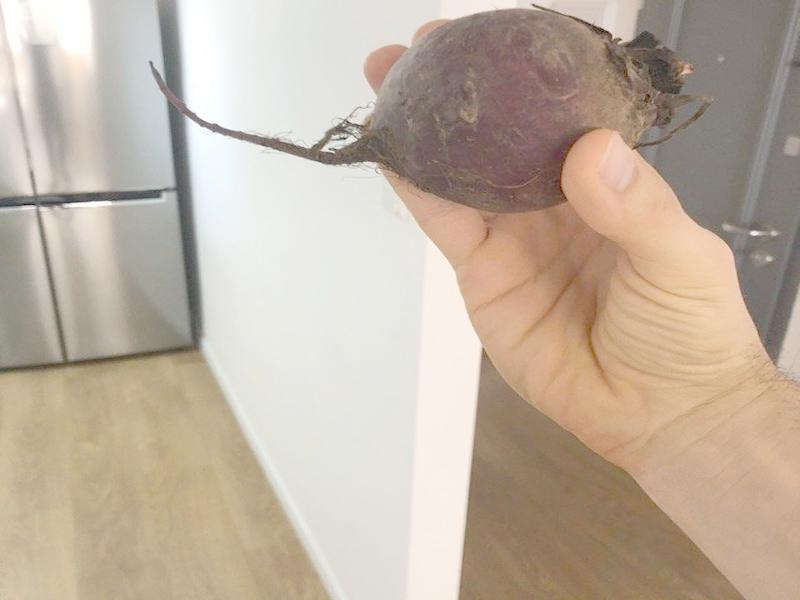Beet: (150, 4, 710, 208)
